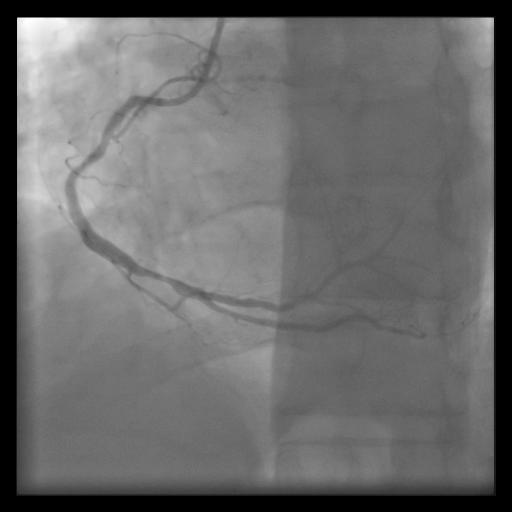Stenosis: (142, 260, 181, 295)
